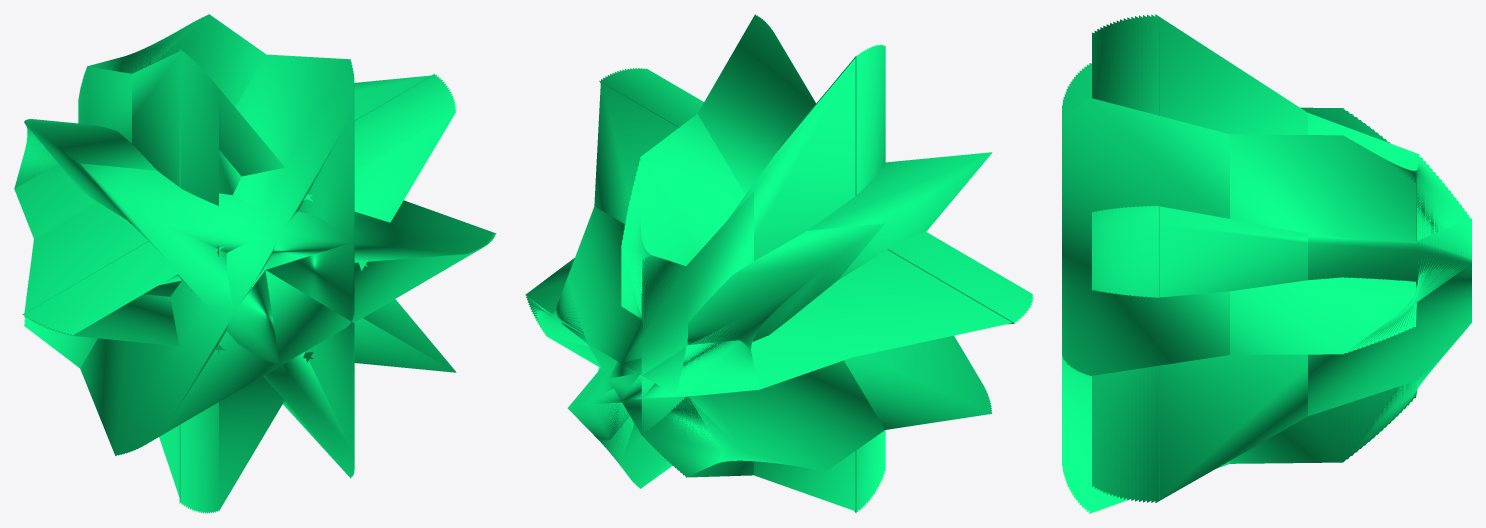
File: metric_tensor_surface_sketchfab_animated_1764703632276.glb
3 views of the same model, side by side, from view 1: azimuth 30°, elevation 25°; view 2: azimuth 150°, elevation 25°; view 3: azimuth 270°, elevation 25° (orthographic).
Parts seen in each view (by area): view 1: MathShape; view 2: MathShape; view 3: MathShape.
Boxes of the visible parts, x1,y1,x2,y2 form: MathShape: [14, 14, 496, 513]; MathShape: [525, 14, 1033, 513]; MathShape: [1062, 14, 1471, 513].
Bounding box in the file's own units: 10.38 × 10.27 × 8.44.
